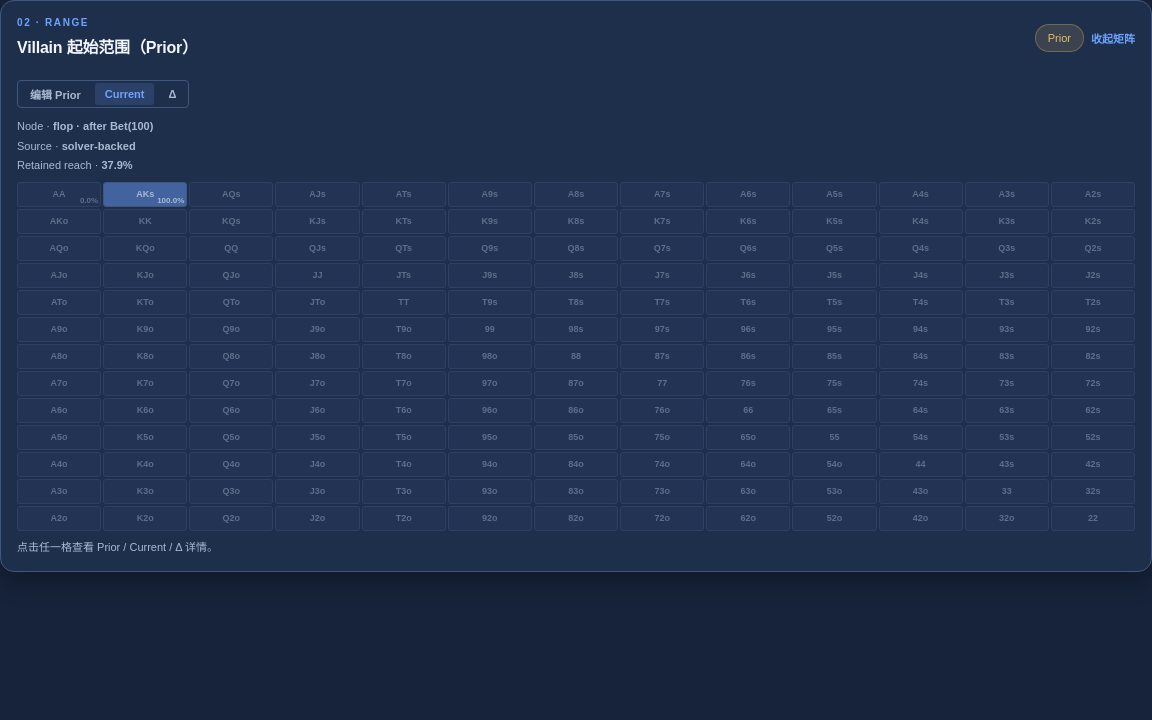
Test case: RangeEditor belief view › shows the combo detail on cell click
The width and height of the screenshot is (1152, 720).
Click the button with aria-label "belief cell AKs" at (145,194), box 103,182 -> 187,206
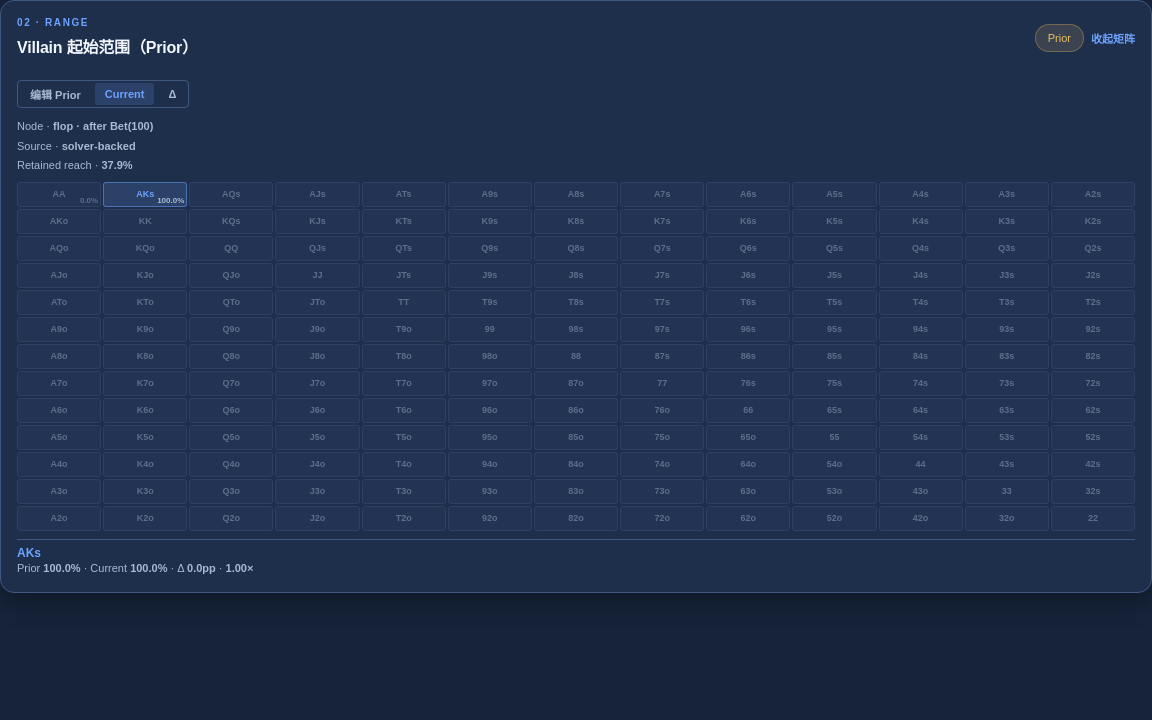
Expected: the 1st text "100.0%" is shown, 157,196 -> 184,204
Now the element named "belief detail AKs" is shown, box 17,538 -> 1135,576
